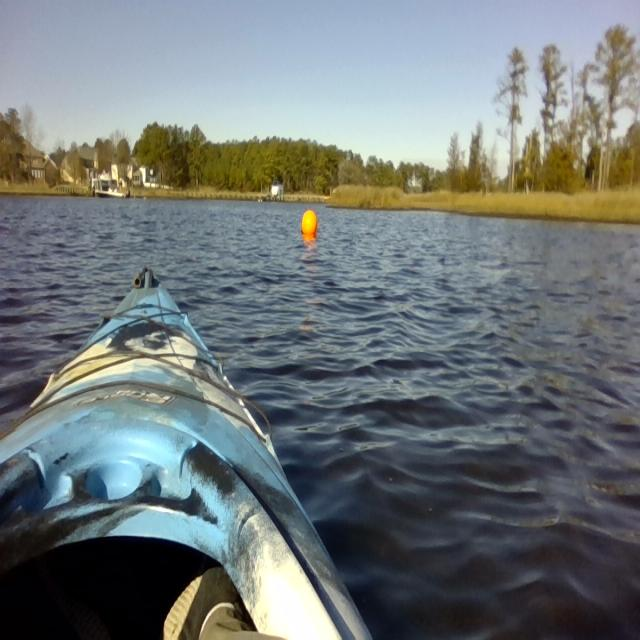Buoy: (298, 205, 320, 241)
